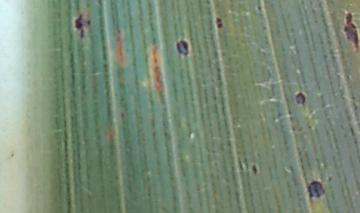tarspot: (343, 12, 360, 51), (308, 180, 325, 198), (74, 13, 85, 39), (175, 39, 190, 57), (295, 91, 305, 106), (215, 16, 223, 30), (251, 164, 259, 175), (257, 4, 263, 13), (86, 18, 92, 26)
